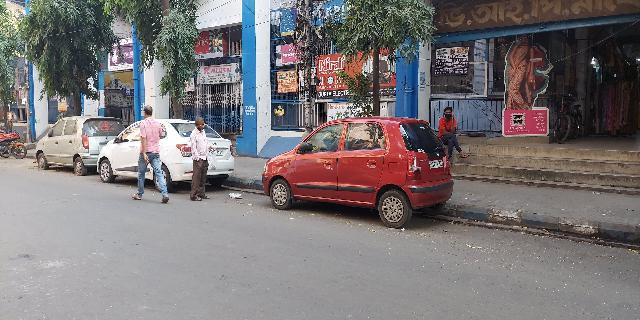Car: (259, 115, 455, 229), (97, 116, 237, 194), (32, 115, 121, 179)
